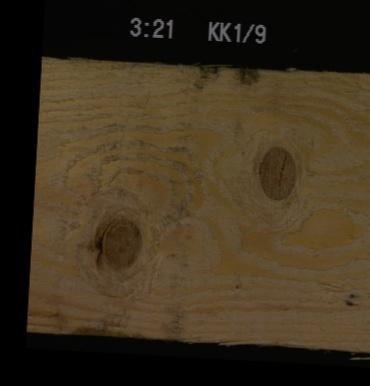dry_knot: (93, 210, 145, 275)
sound_knot: (254, 144, 297, 201)
wave: (71, 319, 112, 334)
